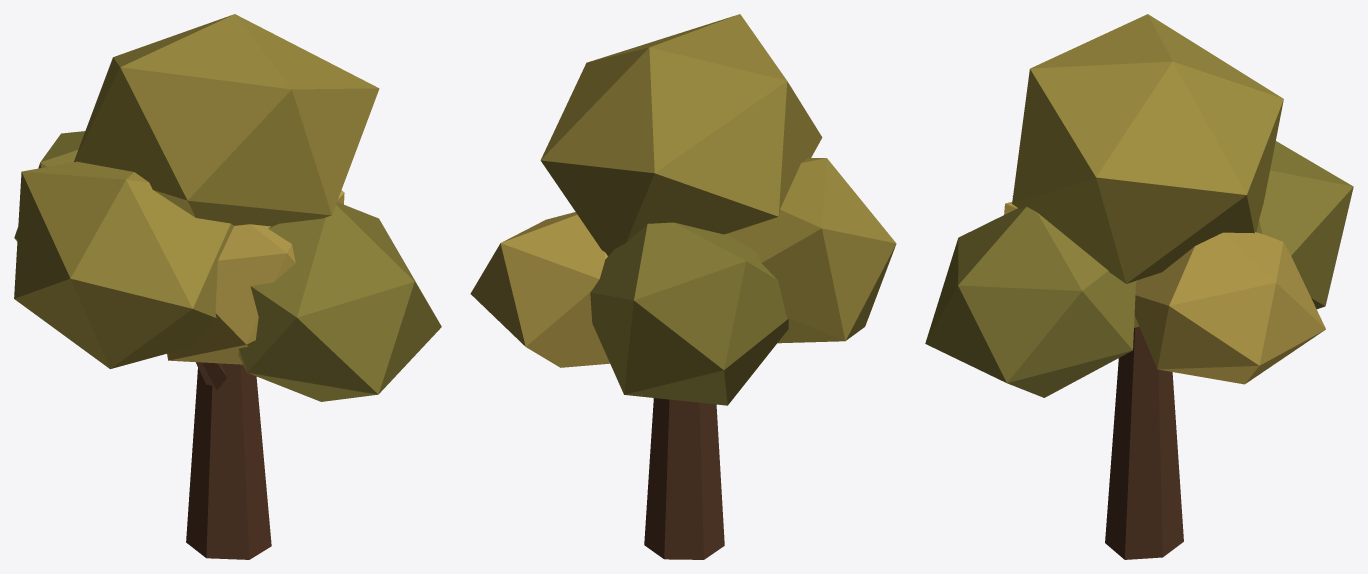
The model's file is tree_2.glb.
3 renders of one model, left to right at view 1: azimuth 30°, elevation 25°; view 2: azimuth 150°, elevation 25°; view 3: azimuth 270°, elevation 25°, orthographic. The views are drawn at different scales.
Visible parts, largest first — view 1: tree_2; view 2: tree_2; view 3: tree_2.
Boxes of the visible parts, x1,y1,x2,y2 form: tree_2: (14, 14, 441, 559); tree_2: (470, 14, 896, 559); tree_2: (925, 14, 1353, 559).
Size of the model in its own units: 1.61 by 2.28 by 1.8.
